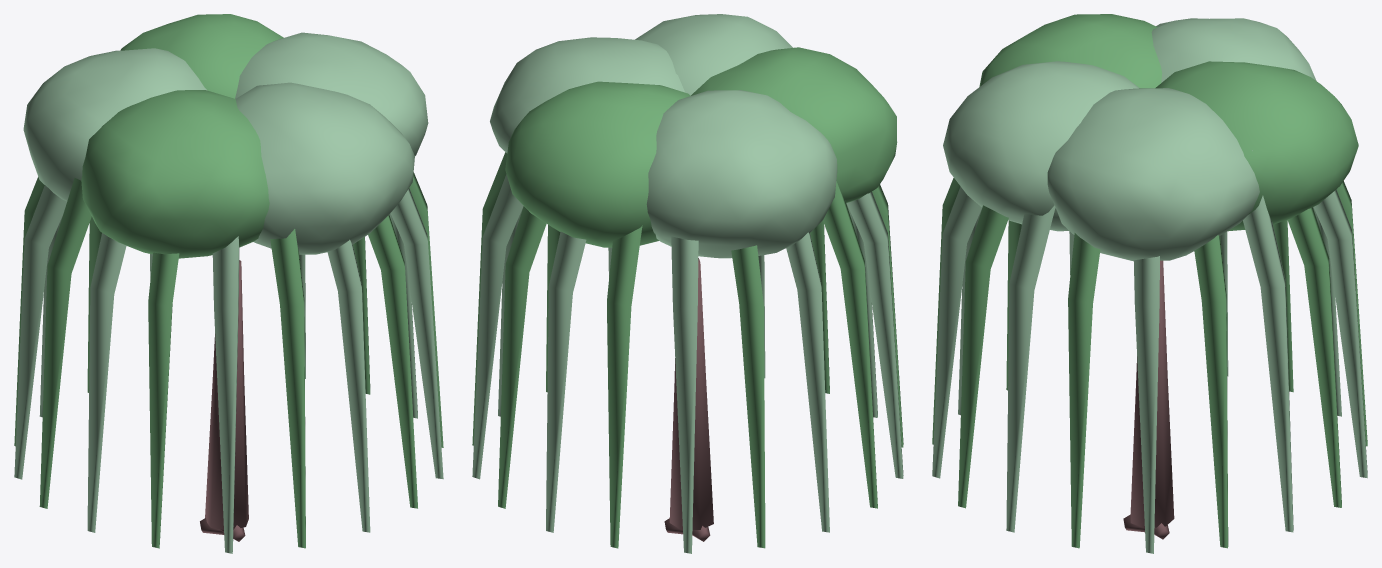
File: willow.glb
The picture shows the model from 3 angles, left to right: view 1: azimuth 30°, elevation 25°; view 2: azimuth 150°, elevation 25°; view 3: azimuth 270°, elevation 25°; orthographic projection.
Parts seen in each view (by area): view 1: willow; view 2: willow; view 3: willow.
Boxes of the visible parts, x1=… form: willow: x1=14, y1=14, x2=443, y2=553; willow: x1=472, y1=14, x2=903, y2=553; willow: x1=932, y1=14, x2=1367, y2=553.
Size of what is drawn, in the model's own units: 9.27 by 11 by 9.11.
